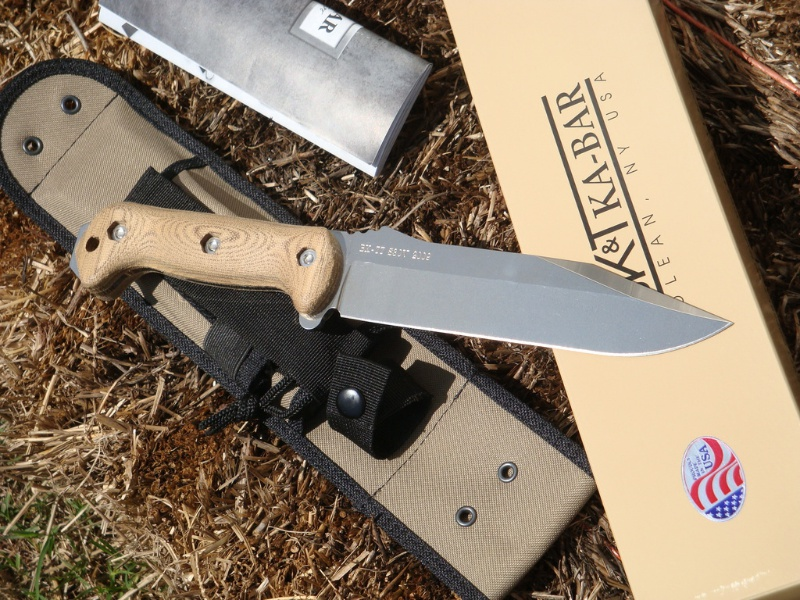knife: (66, 196, 742, 363)
